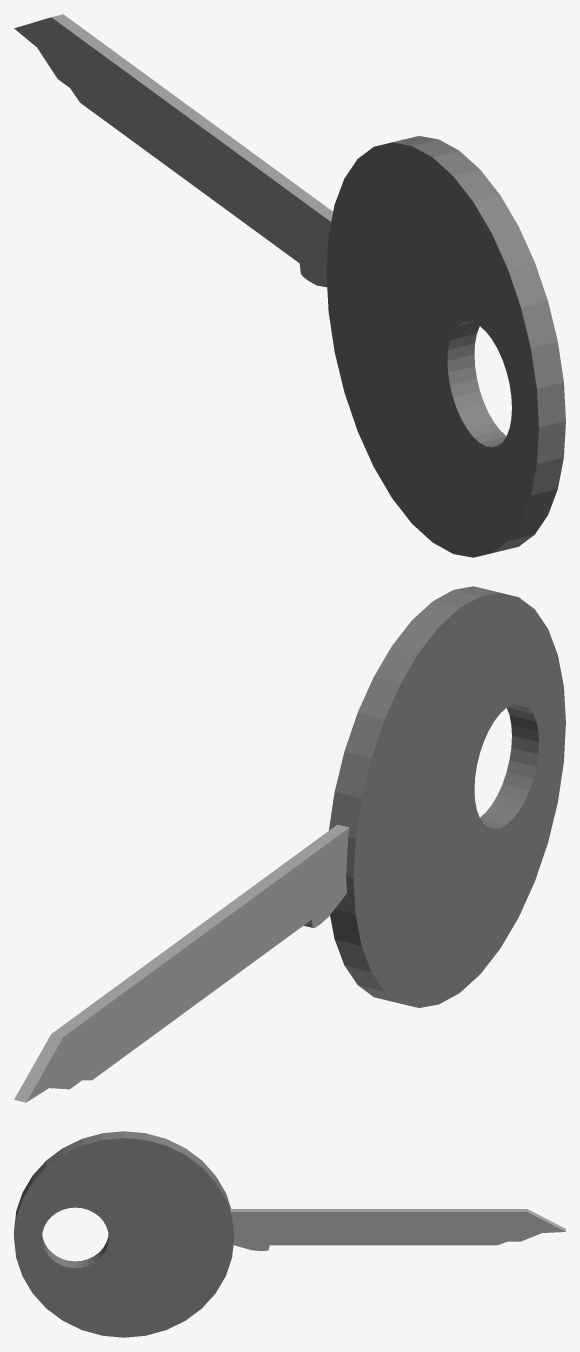
File: key.fbx
3 views of the same model, one above another, from view 1: azimuth 30°, elevation 25°; view 2: azimuth 150°, elevation 25°; view 3: azimuth 270°, elevation 25° (orthographic). The views are drawn at different scales.
Parts seen in each view (by area): view 1: Cube; view 2: Cube; view 3: Cube.
Boxes of the visible parts, left/top/right/bottom form: Cube: left=14, top=14, right=565, bottom=557; Cube: left=14, top=586, right=565, bottom=1102; Cube: left=14, top=1131, right=565, bottom=1337.
Bounding box in the file's own units: 14.7 × 200 × 501.
Materials: 1 (1 with a texture image).
